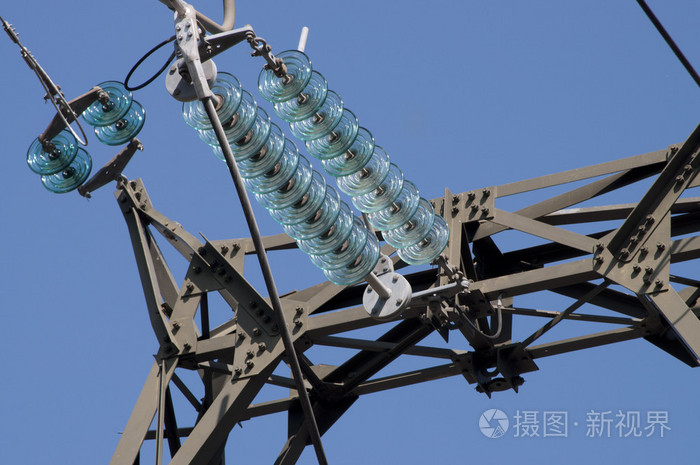insulator: (182, 72, 382, 286), (258, 51, 451, 264), (27, 129, 93, 195), (85, 82, 147, 145)
